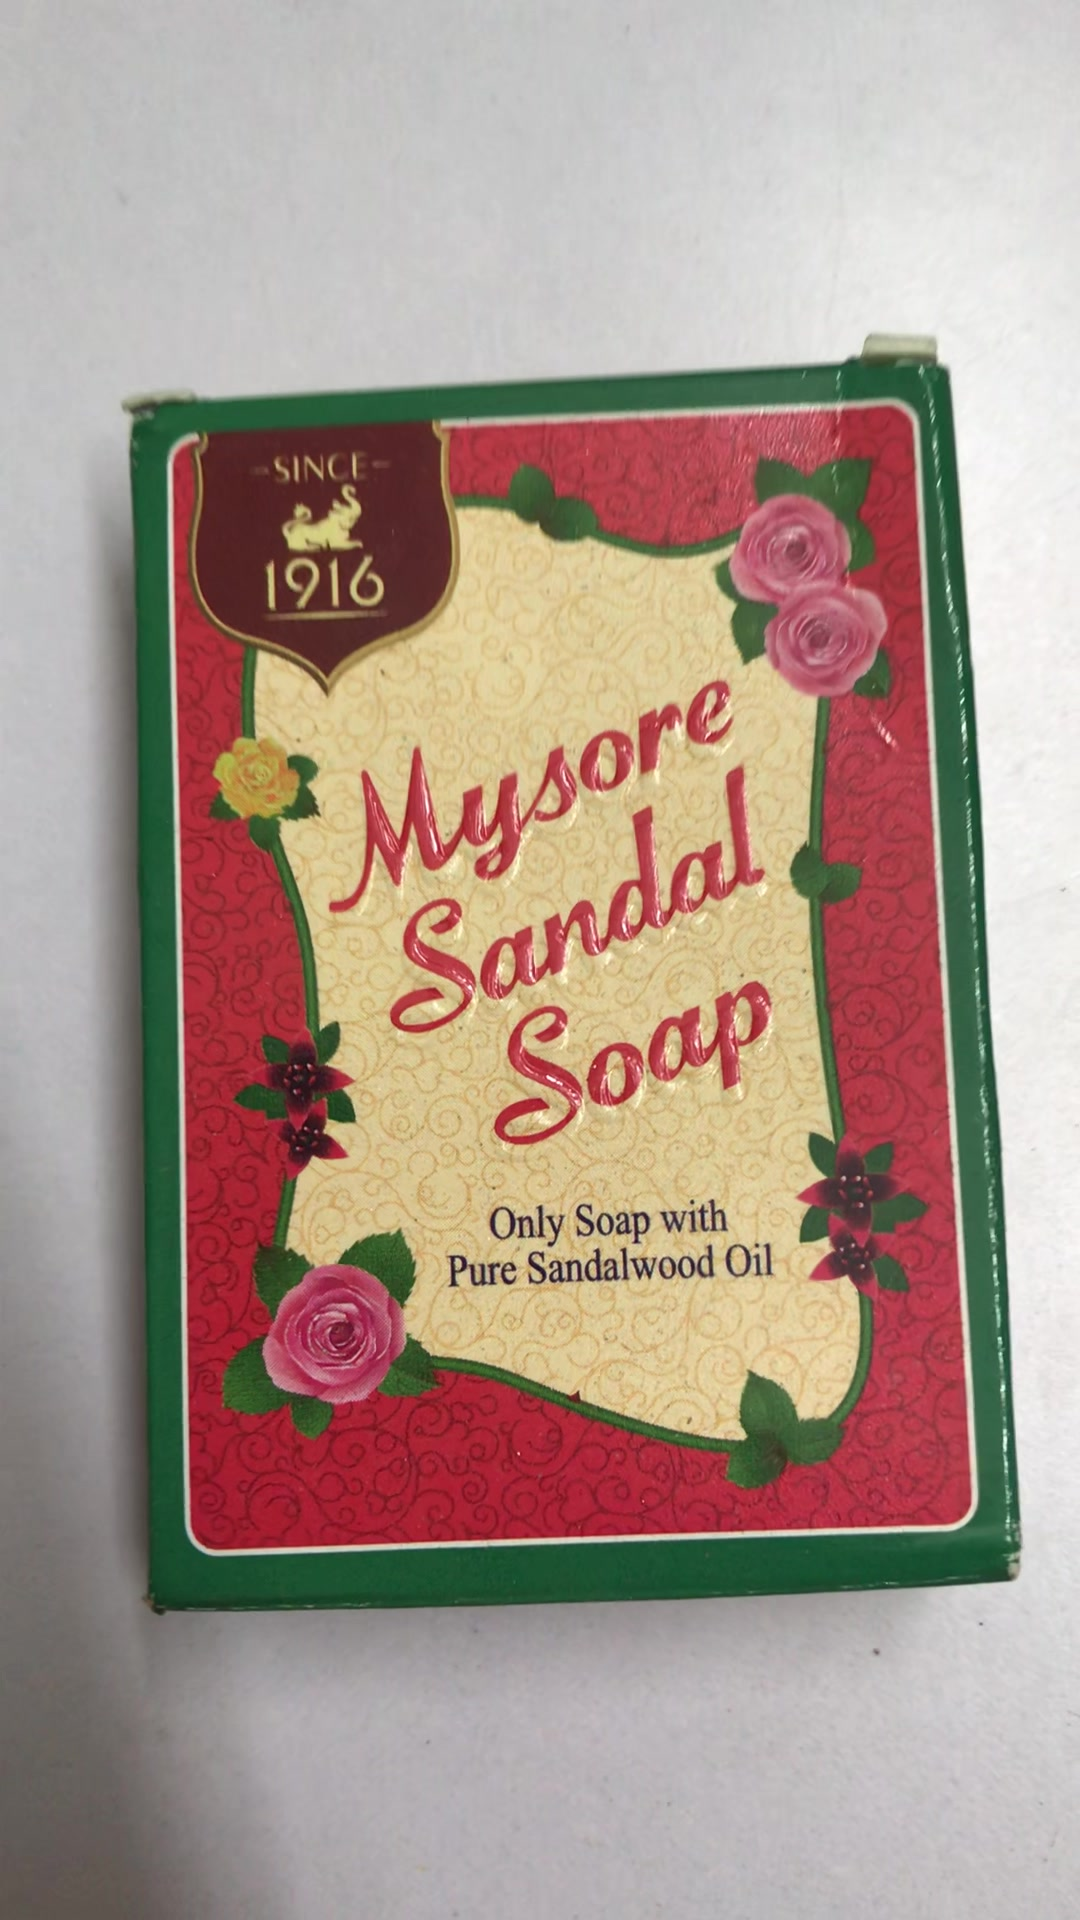mysore sandal soap: (135, 334, 1021, 1613)
